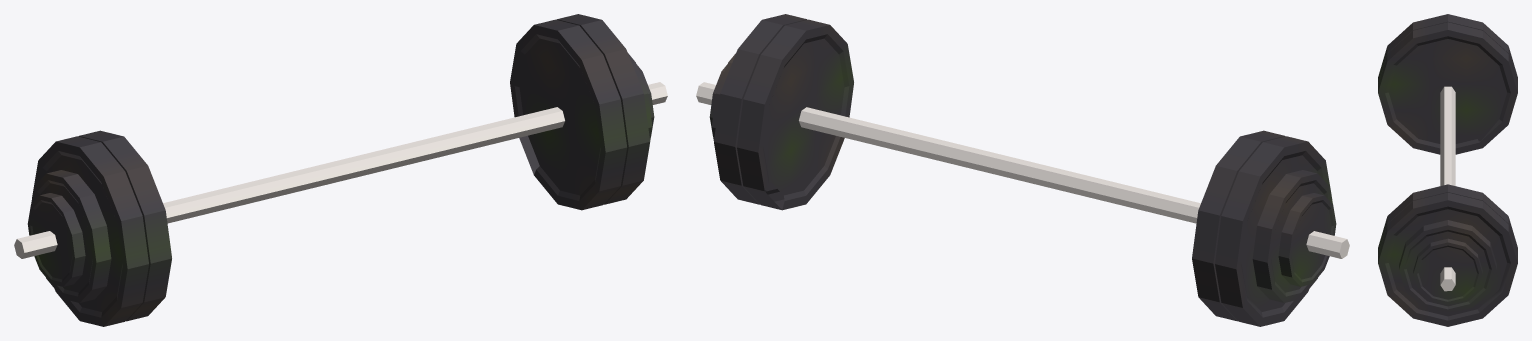
File: barbells.glb
3 renders of one model, left to right at view 1: azimuth 30°, elevation 25°; view 2: azimuth 150°, elevation 25°; view 3: azimuth 270°, elevation 25°, orthographic. The views are drawn at different scales.
Parts seen in each view (by area): view 1: GymEquipments_11_GymEquipments_SG_0.001; view 2: GymEquipments_11_GymEquipments_SG_0.001; view 3: GymEquipments_11_GymEquipments_SG_0.001.
Boxes of the visible parts, x1=… form: GymEquipments_11_GymEquipments_SG_0.001: x1=14, y1=14, x2=667, y2=326; GymEquipments_11_GymEquipments_SG_0.001: x1=696, y1=14, x2=1349, y2=326; GymEquipments_11_GymEquipments_SG_0.001: x1=1378, y1=14, x2=1517, y2=326.
Bounding box in the file's own units: 1.02 × 0.2619 × 0.2619.
1 material, 1 textured.
